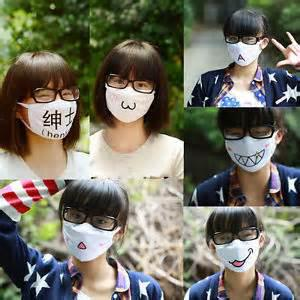OK: (66, 207, 116, 262), (27, 85, 78, 136), (227, 122, 279, 172), (108, 72, 158, 123), (216, 227, 259, 272), (227, 34, 263, 67)
